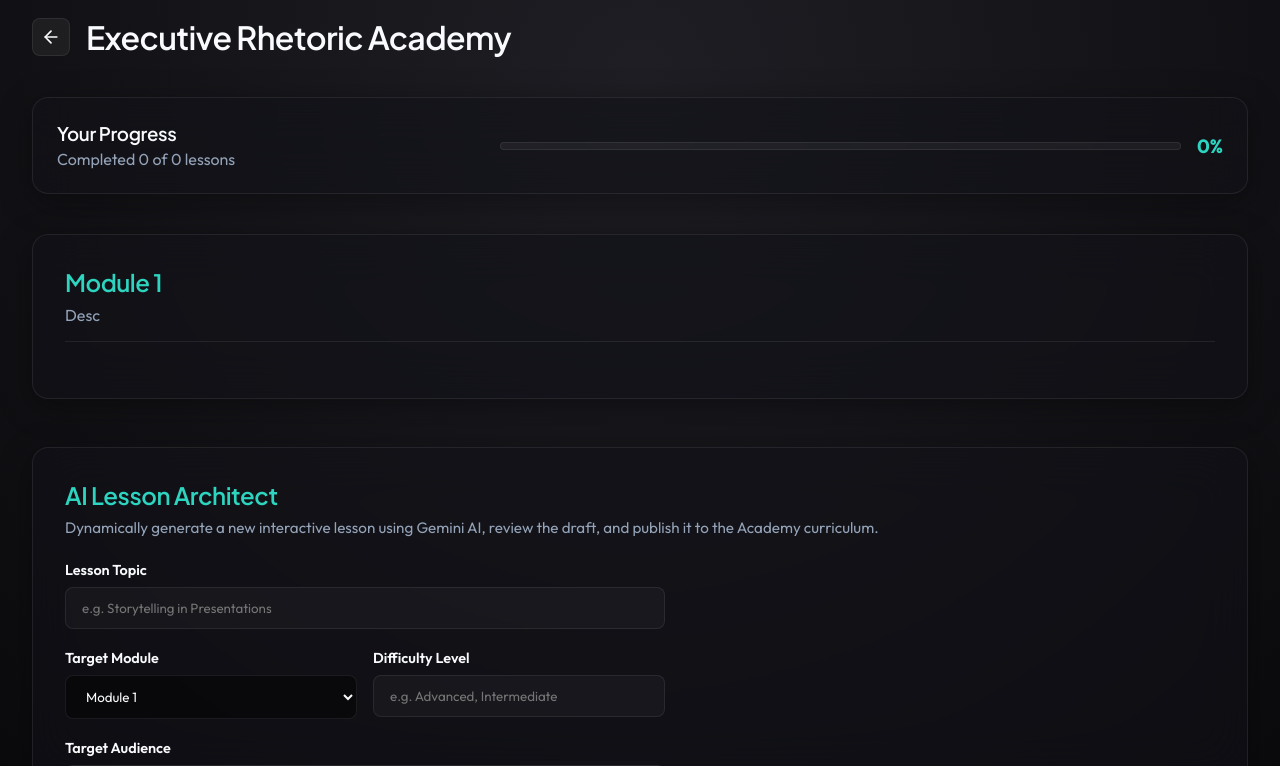
Scenario: Learn Component › handles AI lesson drafting and publishing lifecycle
This screenshot has width=1280, height=766.
Expected: the heading "AI Lesson Architect" is shown, [65,480,278,510]
Type "Storytelling" into the field with placeholder "e.g. Storytelling in Presentations" at (365, 608), box [65,587,665,629]
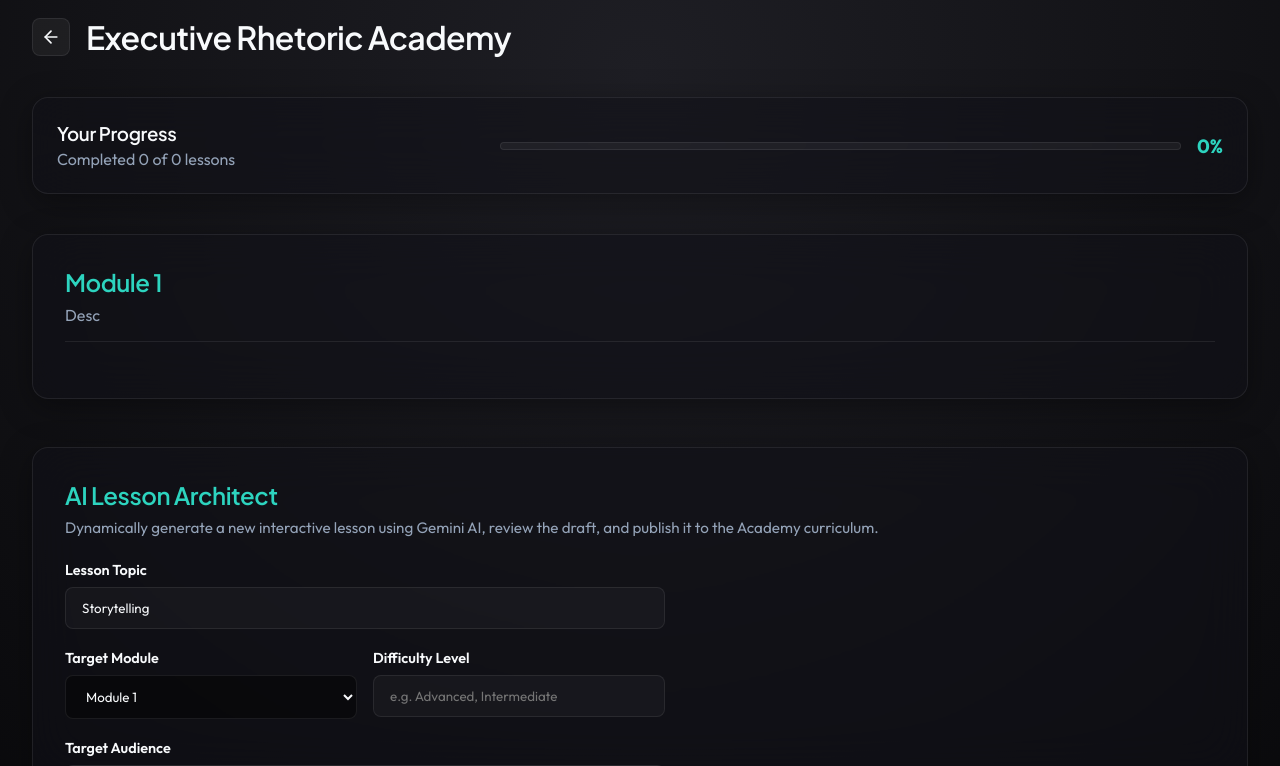
Select "Module 1" in the dropdown labelled "Target Module" at (211, 697), box [65,675,357,719]
(page scrolled)
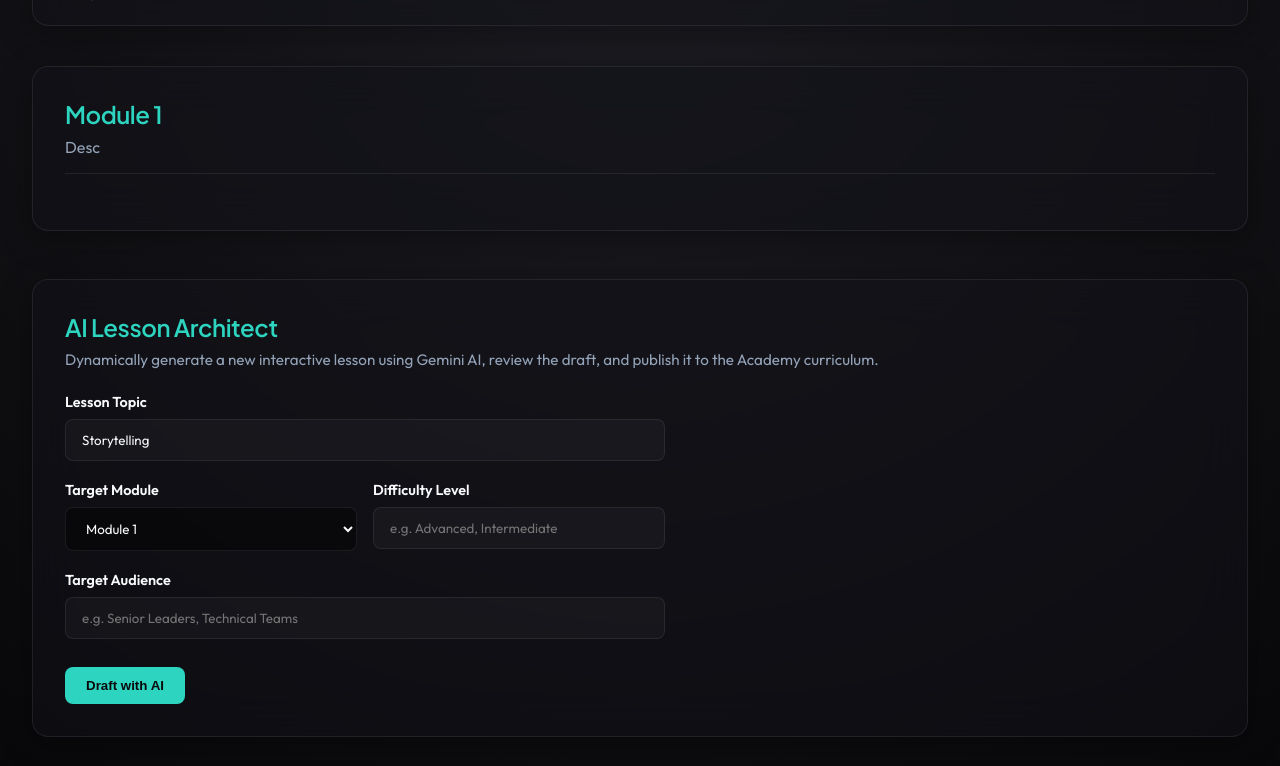
Click the button "Draft with AI" at (125, 686), box [65,667,185,704]
(page scrolled)
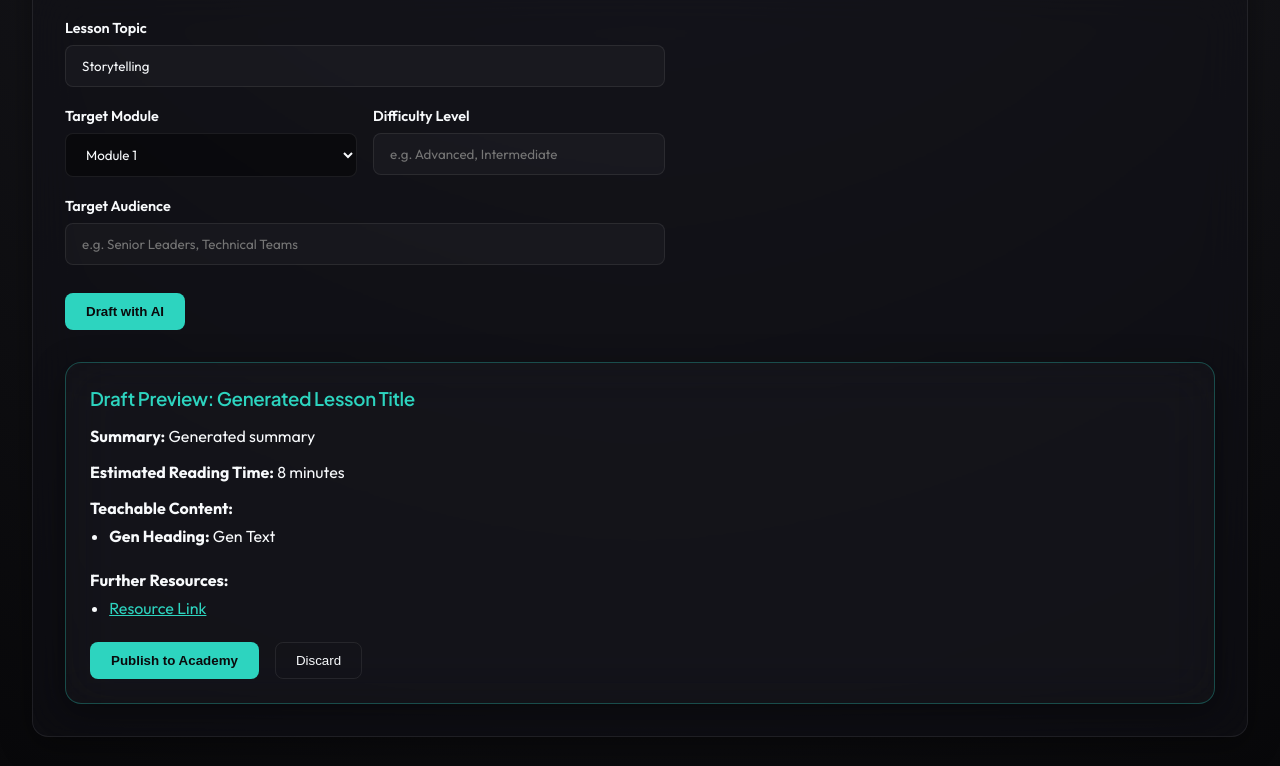
Result: the heading "Draft Preview: Generated Lesson Title" is shown at [90,387,415,410]
Result: the text "Gen Heading:" is shown at [109,526,210,546]
Result: the link "Resource Link" is shown at [109,598,206,618]
Click the button "Publish to Academy" at (174, 660), box [90,642,259,679]
(page scrolled)
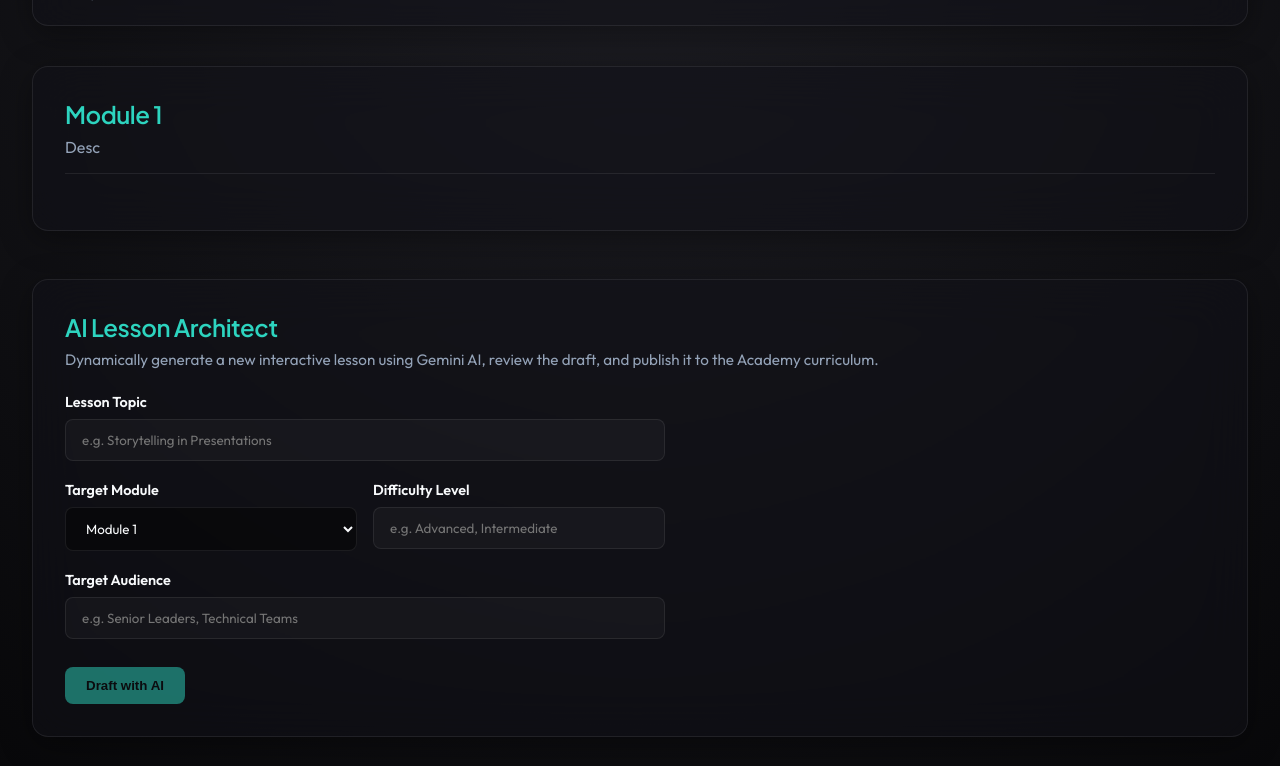
Result: the heading "Draft Preview: Generated Lesson Title" is gone
